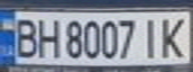0: (81, 17, 103, 60), (100, 17, 121, 60)
7: (118, 16, 139, 60)
8: (60, 16, 84, 60)
B: (9, 15, 42, 58)
H: (33, 15, 60, 58)
I: (139, 15, 163, 60)
K: (157, 13, 190, 60)
